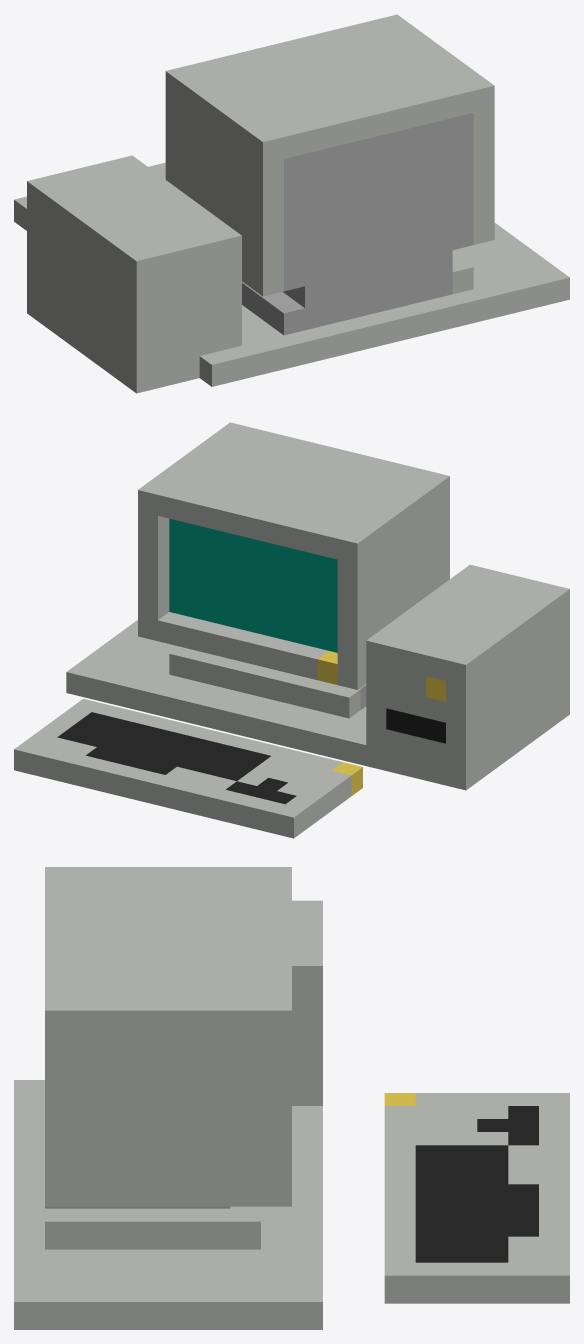
File: computer.glb
The picture shows the model from 3 angles, top to bottom: view 1: azimuth 30°, elevation 25°; view 2: azimuth 150°, elevation 25°; view 3: azimuth 270°, elevation 25°; orthographic projection. The views are drawn at different scales.
Visible parts, largest first — view 1: computer2.vox; view 2: computer2.vox; view 3: computer2.vox.
Part boxes in pixels (x1,y1,x2,y2): computer2.vox: [14, 14, 569, 393]; computer2.vox: [14, 422, 569, 838]; computer2.vox: [14, 867, 569, 1329].
Size of the model in its own units: 2 by 1 by 1.8.
Materials: 1 (1 with a texture image).
